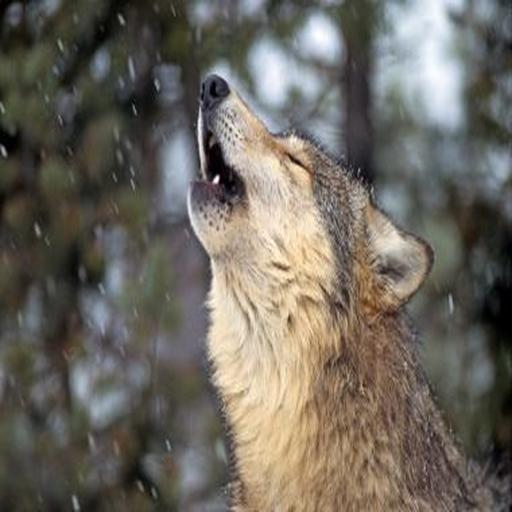Wolf: (183, 65, 512, 510)
